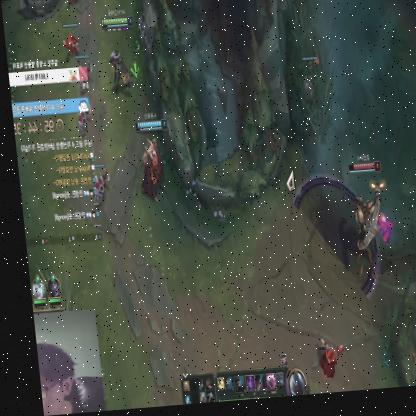streamer: (28, 338, 94, 416)
